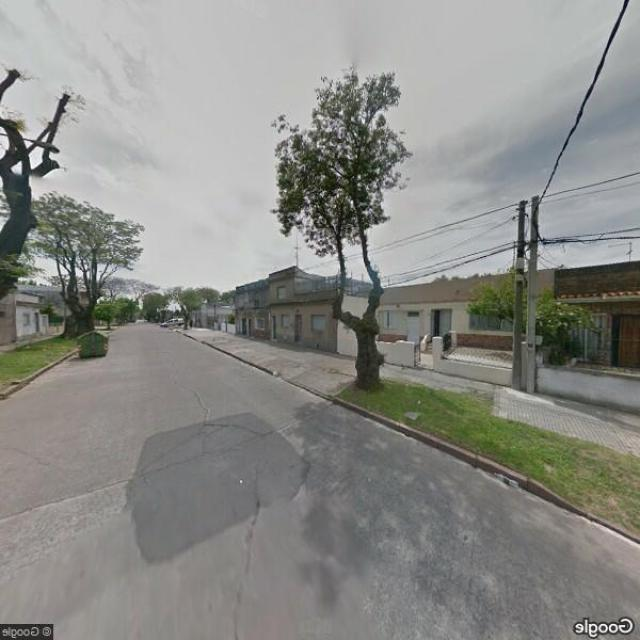garbage container: (71, 325, 114, 365)
